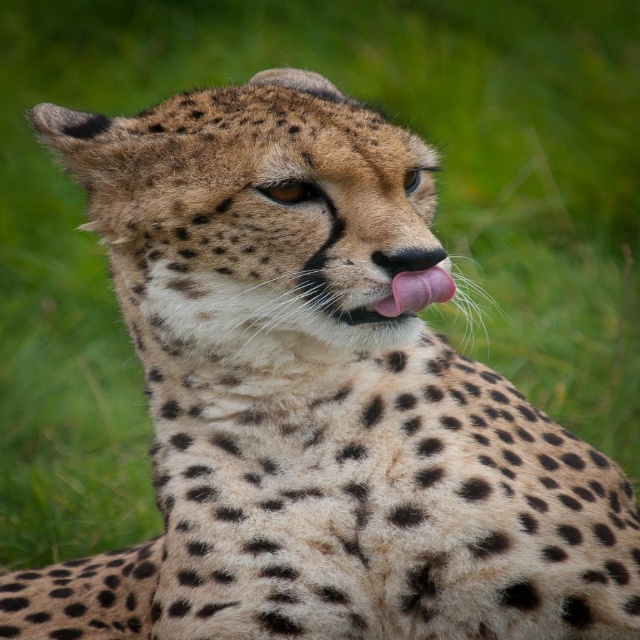Cheetah: (0, 66, 639, 640)
